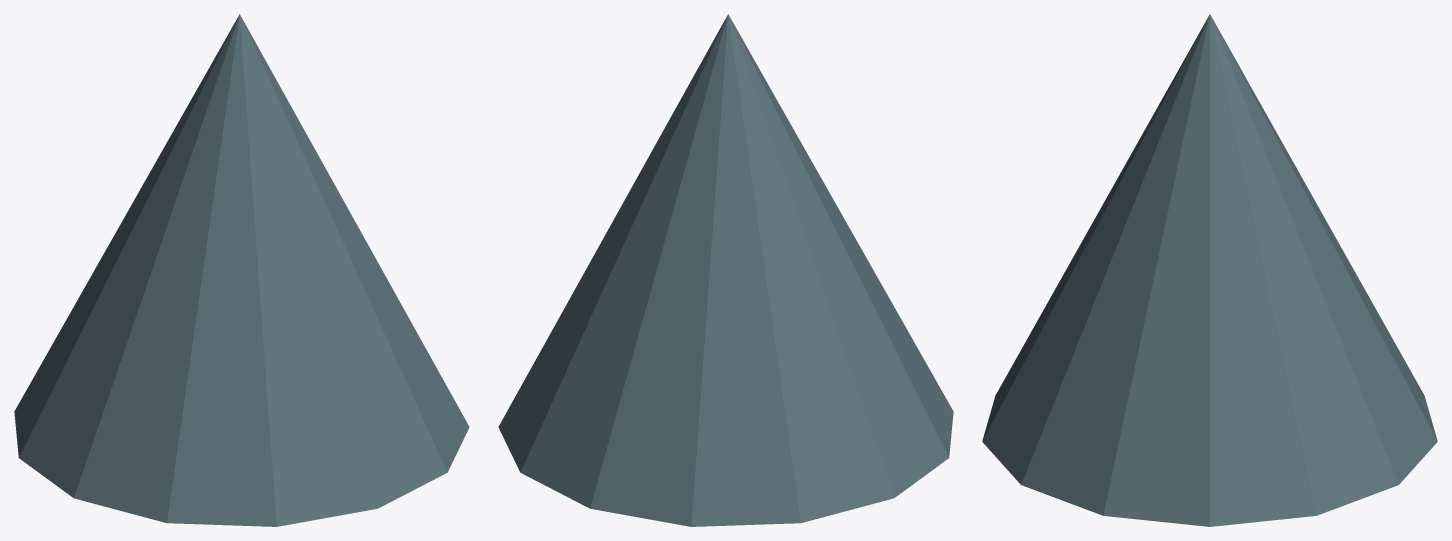
The picture shows the model from 3 angles, left to right: view 1: azimuth 30°, elevation 25°; view 2: azimuth 150°, elevation 25°; view 3: azimuth 270°, elevation 25°; orthographic projection.
Parts seen in each view (by area): view 1: Cone; view 2: Cone; view 3: Cone.
Boxes of the visible parts, bbox=[...] form: Cone: bbox=[14, 14, 469, 526]; Cone: bbox=[498, 14, 953, 526]; Cone: bbox=[982, 14, 1437, 526].
Bounding box in the file's own units: 1.97 × 2 × 1.99.
